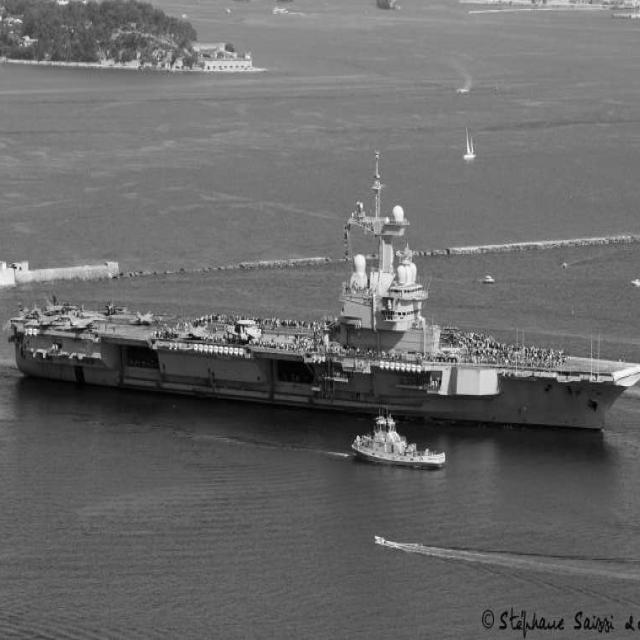Portanaves: (4, 141, 640, 439)
